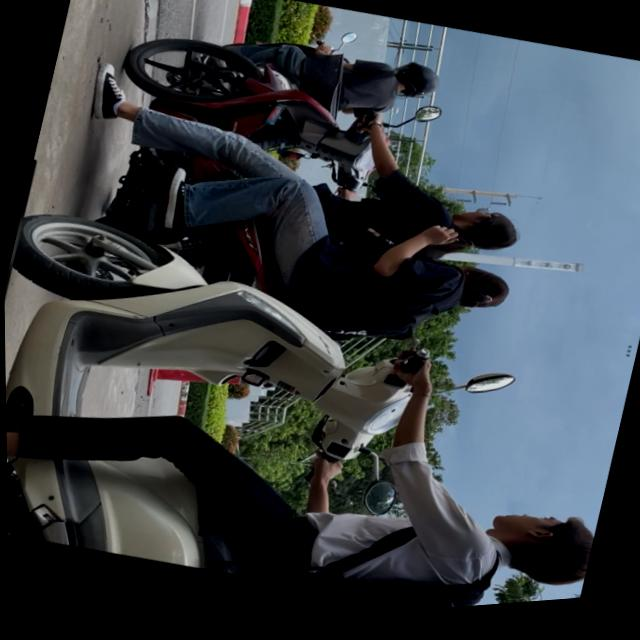no-seatbelt: (385, 61, 444, 112)
seatbelt: (475, 502, 597, 606), (443, 204, 524, 267), (451, 269, 514, 325)
